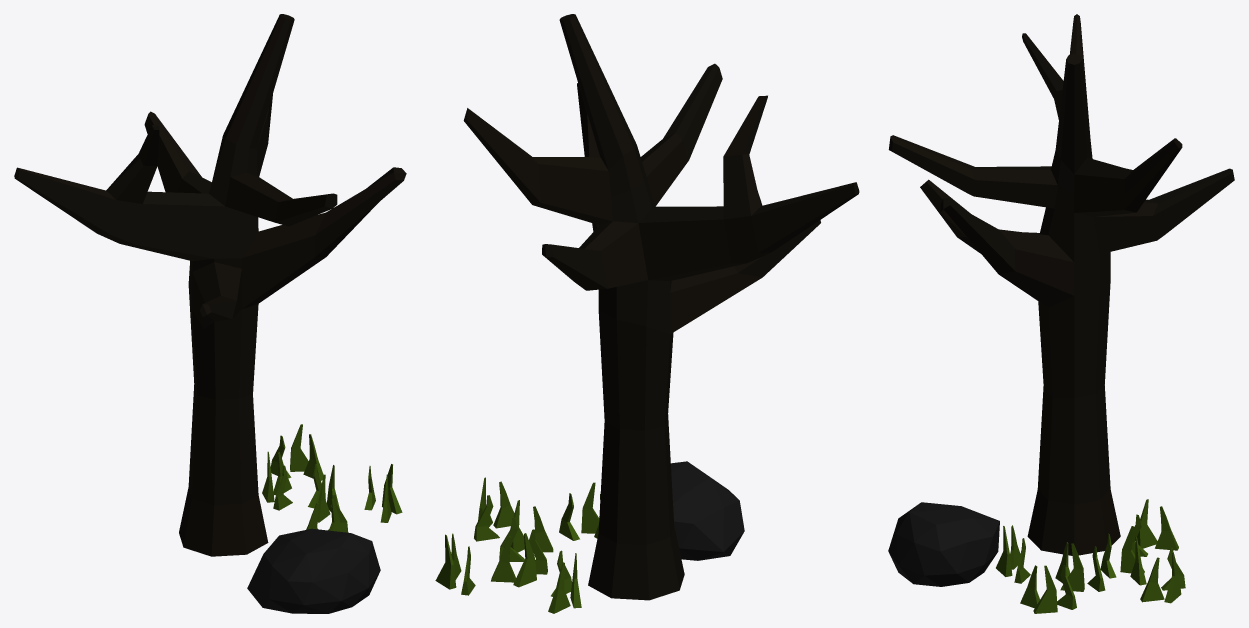
Rendered from arvorePedraMoita.obj.
The picture shows the model from 3 angles, left to right: view 1: azimuth 30°, elevation 25°; view 2: azimuth 150°, elevation 25°; view 3: azimuth 270°, elevation 25°; orthographic projection. The views are drawn at different scales.
Visible parts, largest first — view 1: Arbre_Automne_Cylinder.003, caillou1_Icosphere, Cube.002, Cube.000, Cube.001, Cube.004, Cube.009_Cube.010; view 2: Arbre_Automne_Cylinder.003, caillou1_Icosphere, Cube.000, Cube.001, Cube.004, Cube.003, Cube.002, Cube.009_Cube.010; view 3: Arbre_Automne_Cylinder.003, caillou1_Icosphere, Cube.001, Cube.003, Cube.002, Cube.000, Cube.004, Cube.009_Cube.010.
Boxes of the visible parts, <box> form: Arbre_Automne_Cylinder.003: <box>14,14,406,556</box>; caillou1_Icosphere: <box>247,528,380,613</box>; Cube.002: <box>270,424,323,480</box>; Cube.000: <box>262,451,292,510</box>; Cube.001: <box>364,464,402,522</box>; Cube.004: <box>308,464,339,522</box>; Cube.009_Cube.010: <box>306,494,348,532</box>; Arbre_Automne_Cylinder.003: <box>463,14,859,600</box>; caillou1_Icosphere: <box>671,461,744,560</box>; Cube.000: <box>491,529,547,587</box>; Cube.001: <box>474,477,514,541</box>; Cube.004: <box>499,500,553,561</box>; Cube.003: <box>548,550,581,613</box>; Cube.002: <box>435,533,475,595</box>; Cube.009_Cube.010: <box>559,482,600,540</box>; Arbre_Automne_Cylinder.003: <box>888,14,1234,555</box>; caillou1_Icosphere: <box>888,502,999,586</box>; Cube.001: <box>1020,565,1076,613</box>; Cube.003: <box>1131,499,1178,556</box>; Cube.002: <box>1140,548,1185,603</box>; Cube.000: <box>1100,526,1146,585</box>; Cube.004: <box>1055,542,1105,591</box>; Cube.009_Cube.010: <box>996,525,1030,583</box>.
Size of the model in its own units: 2.67 by 3.65 by 2.17.
